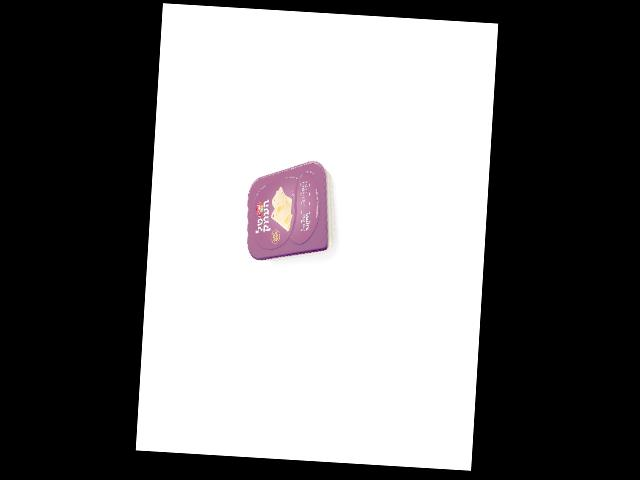cheese: (243, 156, 338, 264)
